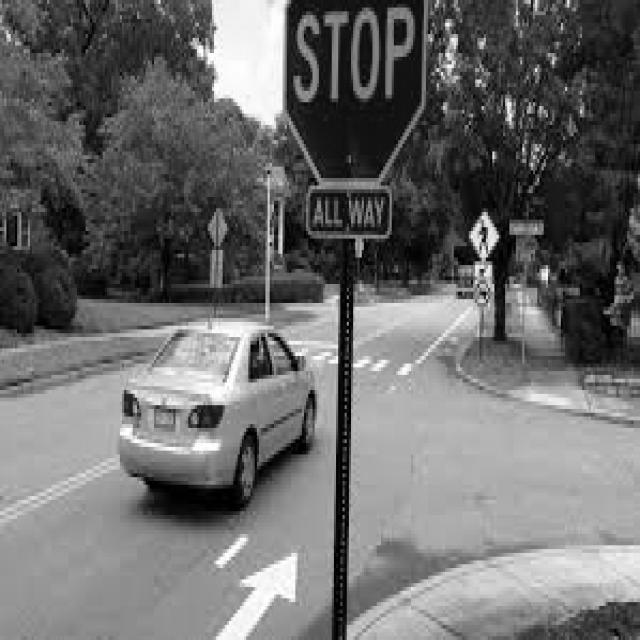stop sign: (284, 0, 426, 245)
